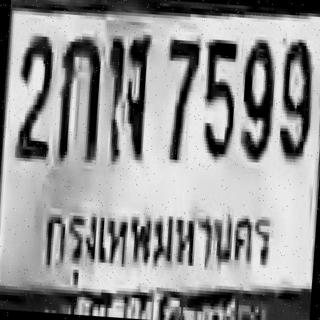A01: (53, 32, 102, 160)
A42: (101, 29, 151, 160)
N02: (12, 31, 54, 158)
N05: (199, 36, 238, 158)
N07: (160, 36, 200, 161)
N09: (276, 35, 314, 160), (238, 36, 276, 160)
P04: (38, 187, 278, 281)
